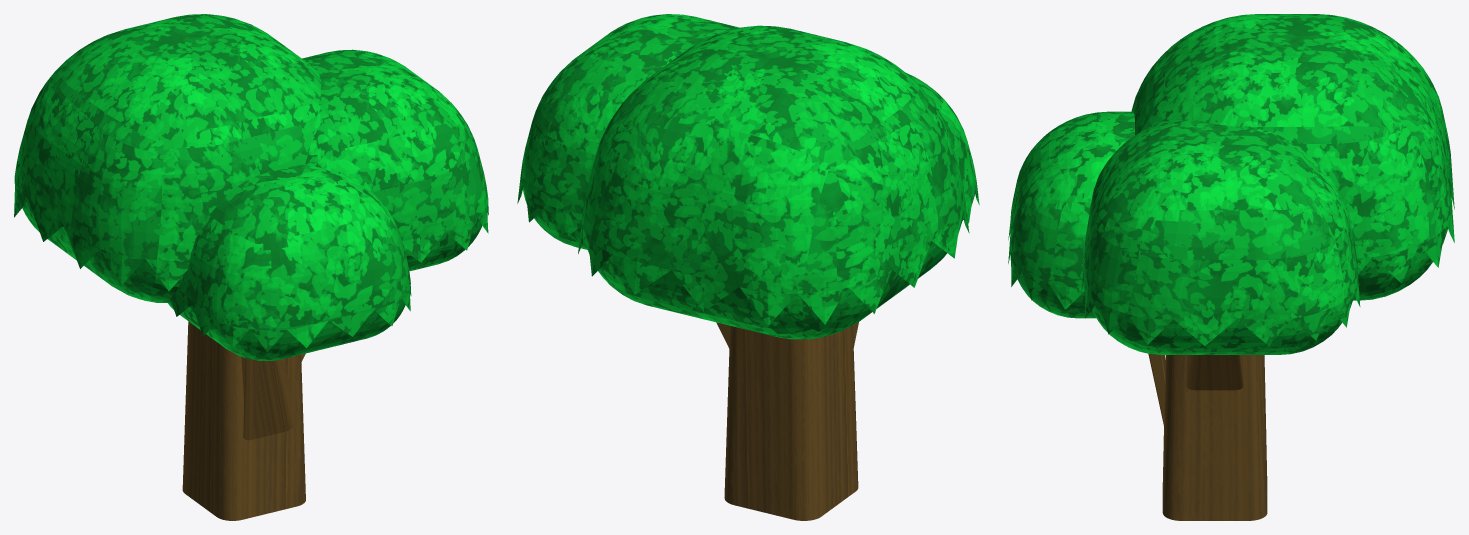
File: дуб.fbx
The picture shows the model from 3 angles, left to right: view 1: azimuth 30°, elevation 25°; view 2: azimuth 150°, elevation 25°; view 3: azimuth 270°, elevation 25°; orthographic projection. The views are drawn at different scales.
Visible parts, largest first — view 1: Cube.004, Cube.005, Cube.001, Cube.003; view 2: Cube.004, Cube.003, Cube.001, Cube.005; view 3: Cube.001, Cube.004, Cube.003, Cube.005.
Part boxes in pixels (x1,y1,x2,y2): Cube.004: [14, 14, 321, 302]; Cube.005: [168, 164, 411, 360]; Cube.001: [302, 49, 488, 271]; Cube.003: [182, 321, 305, 520]; Cube.004: [578, 25, 969, 339]; Cube.003: [716, 322, 858, 520]; Cube.001: [517, 14, 739, 249]; Cube.005: [905, 72, 979, 223]; Cube.001: [1081, 119, 1360, 354]; Cube.004: [1131, 14, 1454, 300]; Cube.003: [1148, 353, 1267, 520]; Cube.005: [1008, 111, 1134, 318].
Size of the model in its own units: 298 by 331 by 296.
